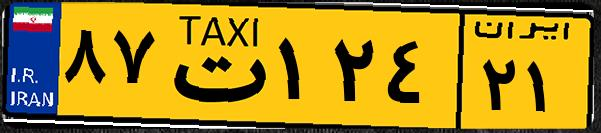1: (270, 28, 330, 110), (525, 38, 570, 115)
2: (330, 28, 385, 110), (475, 38, 525, 113)
4: (385, 28, 445, 110)
7: (110, 28, 158, 98)
8: (57, 26, 110, 100)
ت: (158, 12, 270, 120)
